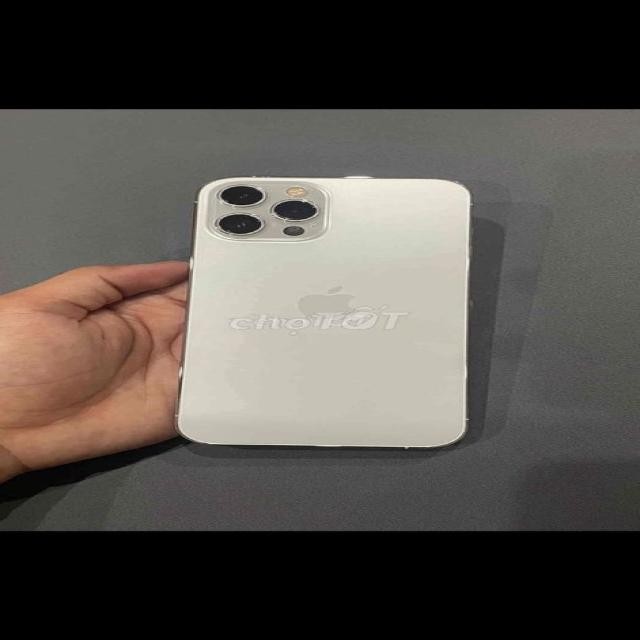gen_12_13: (173, 172, 486, 458)
